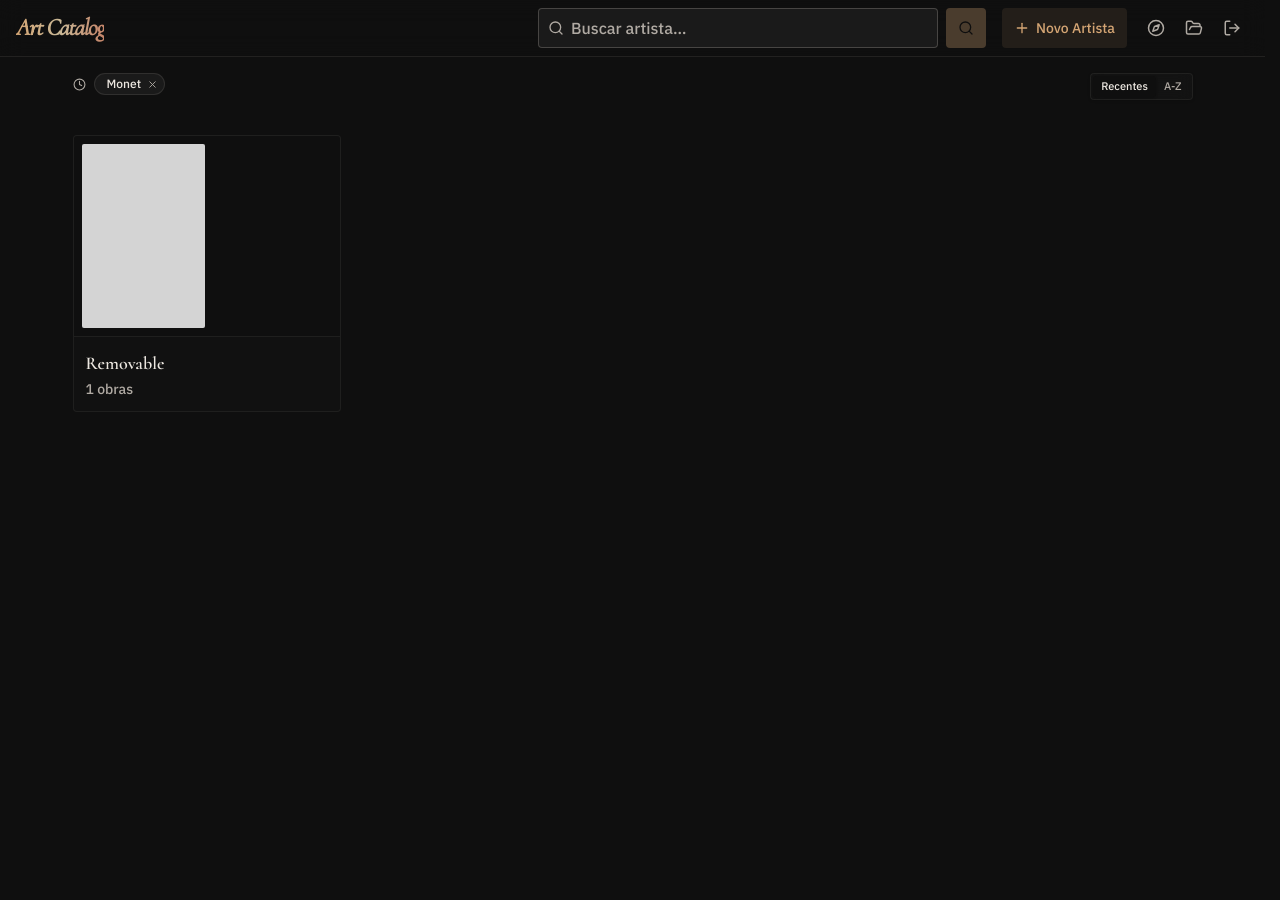
Test: SearchPage › shows delete confirmation when clicking delete button
The image size is (1280, 900).
Note: Click the artist card to open it
Click the heading "Removable": (125, 362) [86, 352, 164, 374]
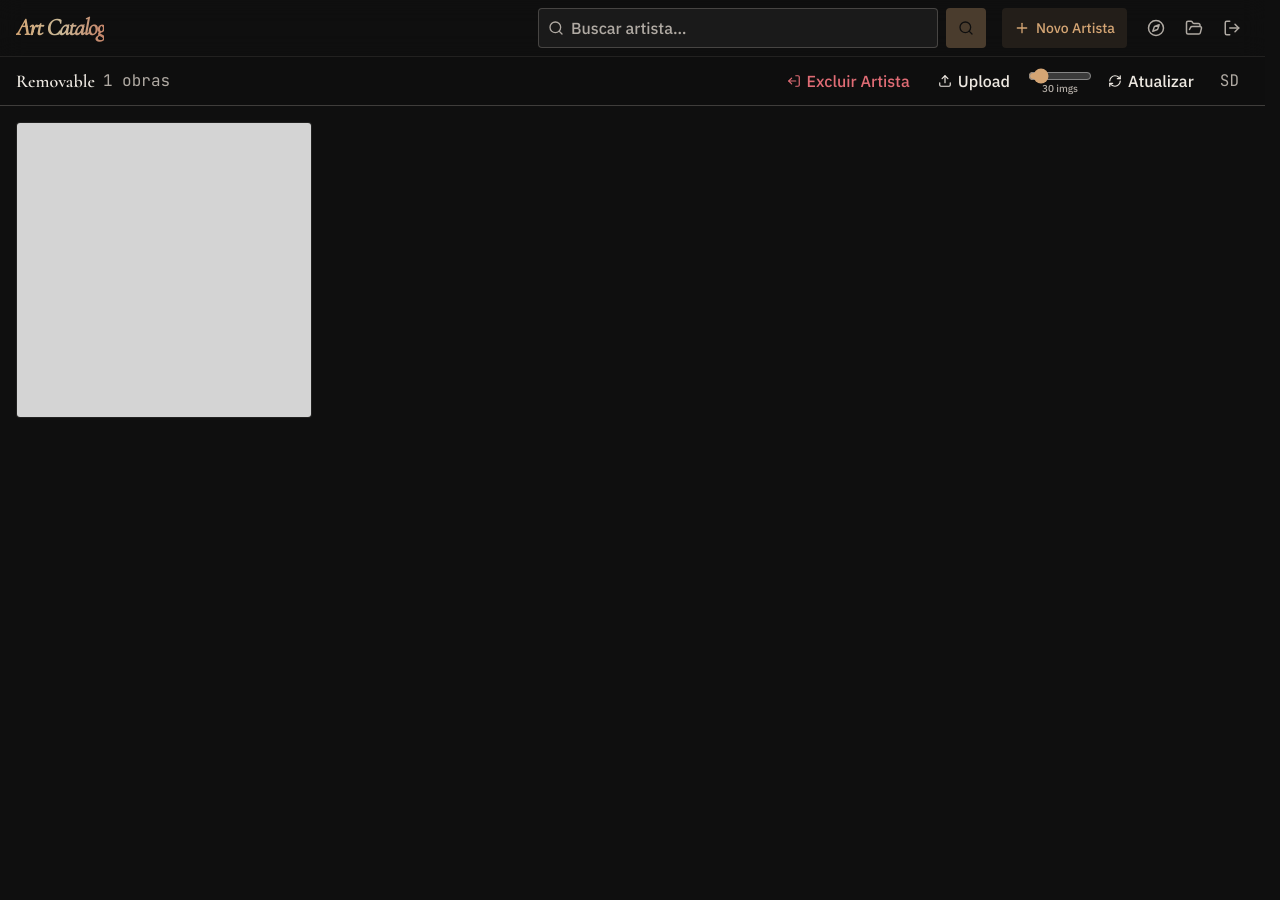
Result: the button titled "Excluir Artista" is shown
Click the button titled "Excluir Artista": (848, 81) [777, 65, 920, 97]
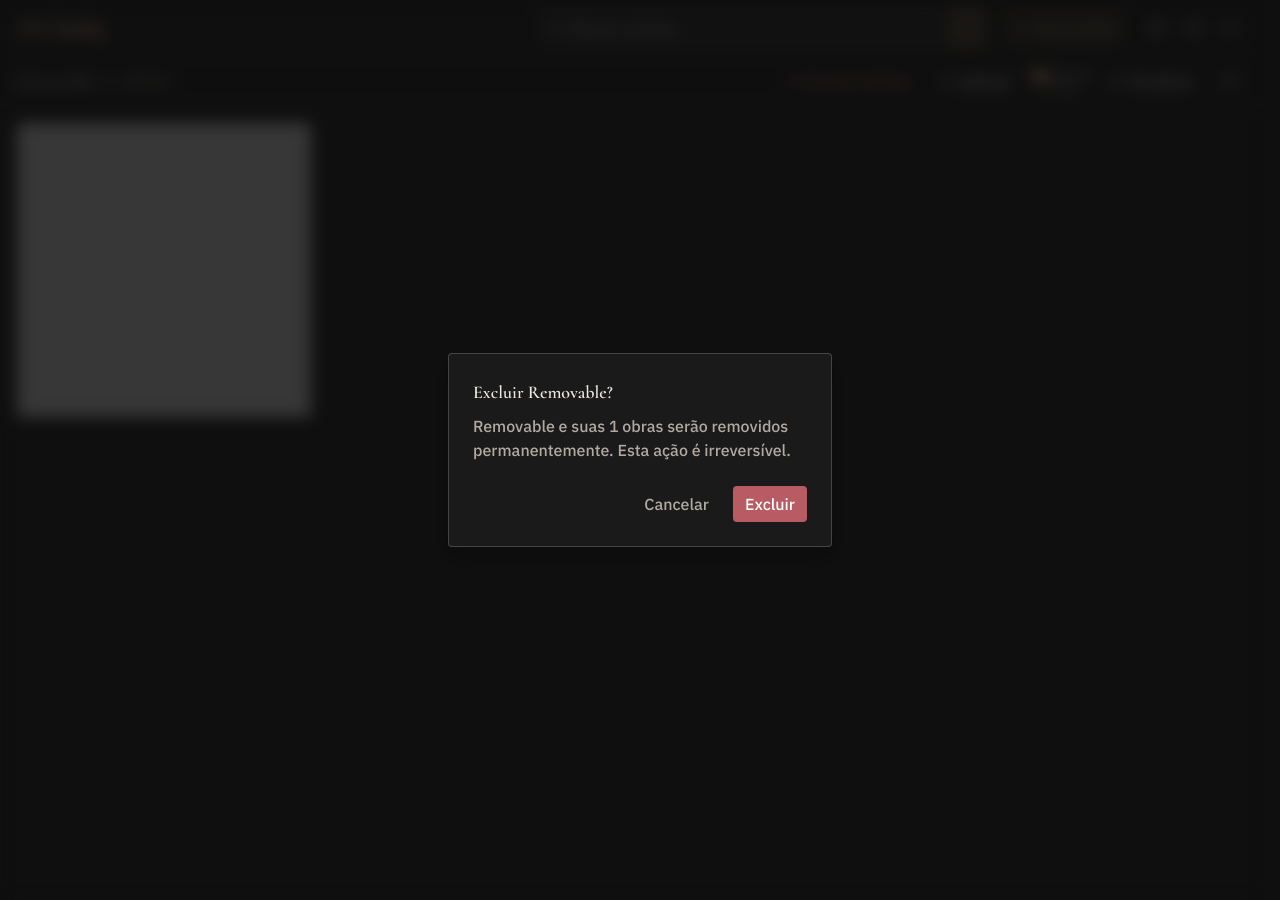
Result: the text "serão removidos permanentemente" is shown at [473, 416, 791, 460]
